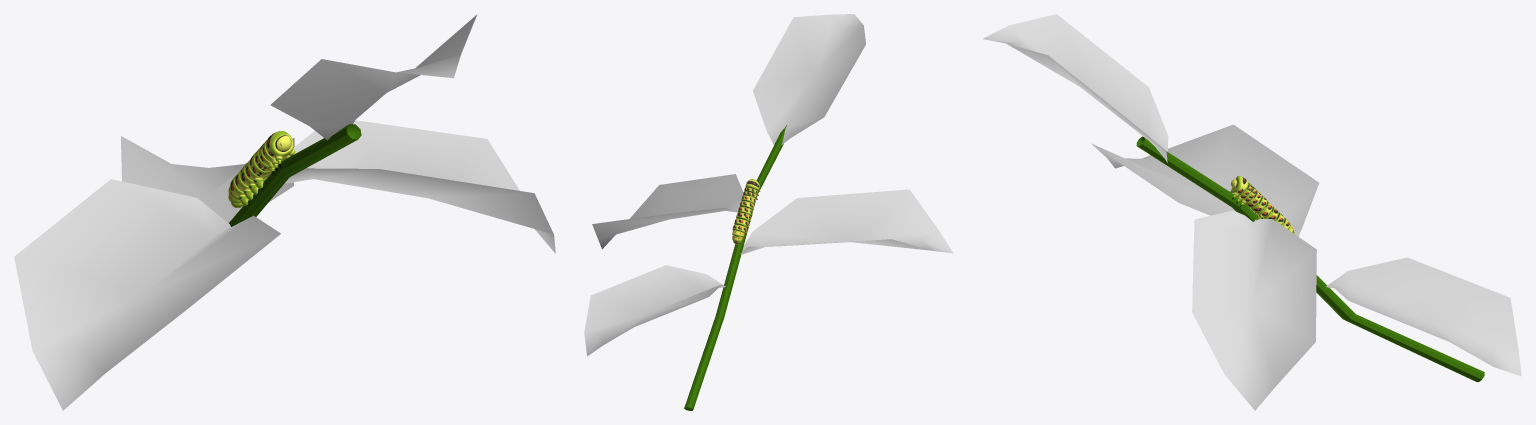
File: Tahap3.fbx
The picture shows the model from 3 angles, left to right: view 1: azimuth 30°, elevation 25°; view 2: azimuth 150°, elevation 25°; view 3: azimuth 270°, elevation 25°; orthographic projection. The views are drawn at different scales.
Parts seen in each view (by area): view 1: pPlane2_lambert1_0, pPlane3_lambert1_0, pPlane1_lambert1_0.001, pPlane1_lambert1_0, pCylinder1_lambert2_0, pCylinder18_lambert9_0.001; view 2: pPlane1_lambert1_0.001, pPlane2_lambert1_0, pPlane1_lambert1_0, pPlane3_lambert1_0, pCylinder1_lambert2_0, pCylinder18_lambert9_0.001; view 3: pPlane3_lambert1_0, pPlane1_lambert1_0, pPlane2_lambert1_0, pPlane1_lambert1_0.001, pCylinder1_lambert2_0, pCylinder18_lambert9_0.001.
Part boxes in pixels (<box>): pPlane2_lambert1_0: <box>14,179,280,410</box>; pPlane3_lambert1_0: <box>284,120,555,253</box>; pPlane1_lambert1_0.001: <box>270,14,477,140</box>; pPlane1_lambert1_0: <box>121,136,294,222</box>; pCylinder1_lambert2_0: <box>229,124,361,226</box>; pCylinder18_lambert9_0.001: <box>228,131,295,207</box>; pPlane1_lambert1_0.001: <box>753,14,865,144</box>; pPlane2_lambert1_0: <box>740,189,953,254</box>; pPlane1_lambert1_0: <box>584,265,725,356</box>; pPlane3_lambert1_0: <box>592,174,743,249</box>; pCylinder1_lambert2_0: <box>684,125,786,410</box>; pCylinder18_lambert9_0.001: <box>732,179,760,244</box>; pPlane3_lambert1_0: <box>1192,210,1316,410</box>; pPlane1_lambert1_0: <box>1326,257,1521,376</box>; pPlane2_lambert1_0: <box>1091,124,1319,236</box>; pPlane1_lambert1_0.001: <box>983,14,1168,162</box>; pCylinder1_lambert2_0: <box>1136,136,1484,382</box>; pCylinder18_lambert9_0.001: <box>1230,176,1294,233</box>.
Size of the model in its own units: 15.8 by 13.37 by 18.08.
3 materials, 1 textured.
